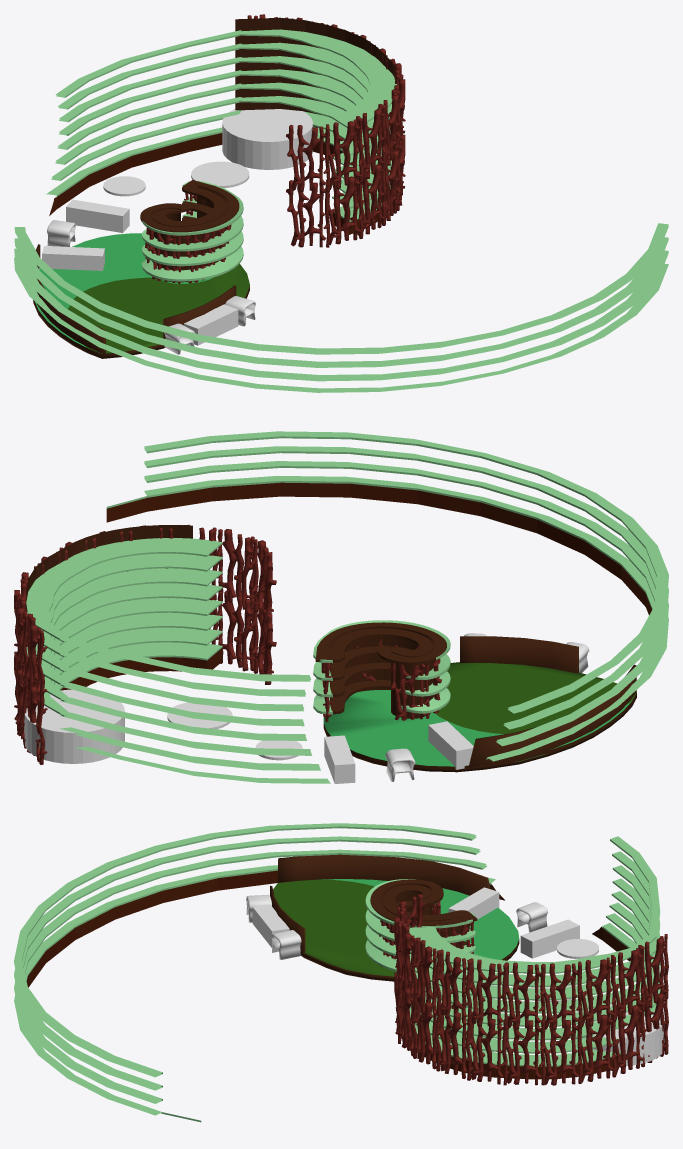
The model's file is Level1.fbx.
3 views of the same model, one above another, from view 1: azimuth 30°, elevation 25°; view 2: azimuth 150°, elevation 25°; view 3: azimuth 270°, elevation 25° (orthographic). The views are drawn at different scales.
Visible parts, largest first — view 1: BigShelves.Lvl1, Stick.Lvl3, Shelves.Lvl3, LargeShelf.Lvl1, Leaf.Lvl1, ShelfWall.Lvl3.001, Cylinder.020, Shelves, ShelfWall.Lvl1.001, Wall.BigShelf.Lvl1.001, Cylinder.019, Leaf.Lvl1.002 (+6 smaller); view 2: BigShelves.Lvl1, Shelves.Lvl3, Leaf.Lvl1, LargeShelf.Lvl1, Stick.Lvl3, Wall.Lvl1.002, Leaf.Lvl1.002, ShelfWall.Lvl1.001, Cylinder.020, Shelves, ShelfWall.Lvl3.001, Stick.Level1 (+7 smaller); view 3: Stick.Lvl3, BigShelves.Lvl1, Leaf.Lvl1, Shelves.Lvl3, Leaf.Lvl1.002, LargeShelf.Lvl1, Wall.Lvl1.002, ShelfWall.Lvl1.001, Shelves, Cube.010, Wall.BigShelf.Lvl1.001, Cylinder.020 (+6 smaller).
Boxes of the visible parts, x1,y1,x2,y2 form: BigShelves.Lvl1: [14, 223, 668, 392]; Stick.Lvl3: [247, 14, 405, 247]; Shelves.Lvl3: [239, 29, 396, 222]; LargeShelf.Lvl1: [46, 30, 241, 196]; Leaf.Lvl1: [33, 233, 249, 358]; ShelfWall.Lvl3.001: [235, 17, 396, 127]; Cylinder.020: [222, 109, 312, 169]; Shelves: [142, 181, 243, 281]; ShelfWall.Lvl1.001: [140, 180, 239, 232]; Wall.BigShelf.Lvl1.001: [49, 133, 393, 234]; Cylinder.019: [103, 161, 249, 196]; Leaf.Lvl1.002: [36, 244, 236, 353]; BigShelves.Lvl1: [106, 431, 668, 761]; Shelves.Lvl3: [26, 538, 222, 716]; Leaf.Lvl1: [323, 662, 636, 772]; LargeShelf.Lvl1: [59, 638, 330, 783]; Stick.Lvl3: [14, 524, 276, 764]; Wall.Lvl1.002: [106, 482, 651, 615]; Leaf.Lvl1.002: [460, 636, 636, 767]; ShelfWall.Lvl1.001: [315, 622, 446, 714]; Cylinder.020: [24, 689, 124, 763]; Shelves: [313, 620, 450, 714]; ShelfWall.Lvl3.001: [26, 525, 192, 701]; Stick.Level1: [321, 638, 441, 721]; Stick.Lvl3: [394, 894, 668, 1085]; BigShelves.Lvl1: [14, 823, 495, 1122]; Leaf.Lvl1: [273, 879, 519, 981]; Shelves.Lvl3: [409, 927, 656, 1066]; Leaf.Lvl1.002: [270, 854, 490, 952]; LargeShelf.Lvl1: [602, 836, 660, 1014]; Wall.Lvl1.002: [26, 870, 504, 987]; ShelfWall.Lvl1.001: [370, 879, 477, 945]; Shelves: [365, 879, 475, 971]; Cube.010: [520, 919, 579, 958]; Wall.BigShelf.Lvl1.001: [424, 927, 646, 1079]; Cylinder.020: [575, 1001, 664, 1066].
Bounding box in the file's own units: 2878 × 639 × 3092.
